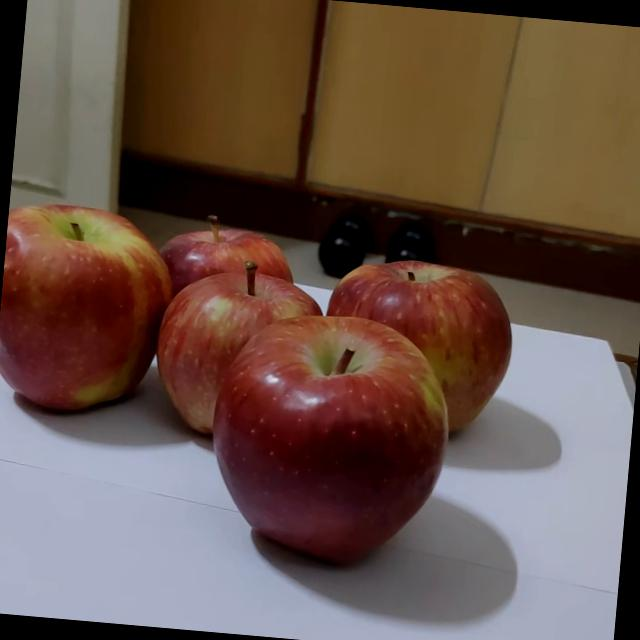apple: (182, 314, 435, 580), (346, 264, 557, 468), (22, 210, 224, 420), (178, 264, 358, 444), (202, 228, 355, 376)
